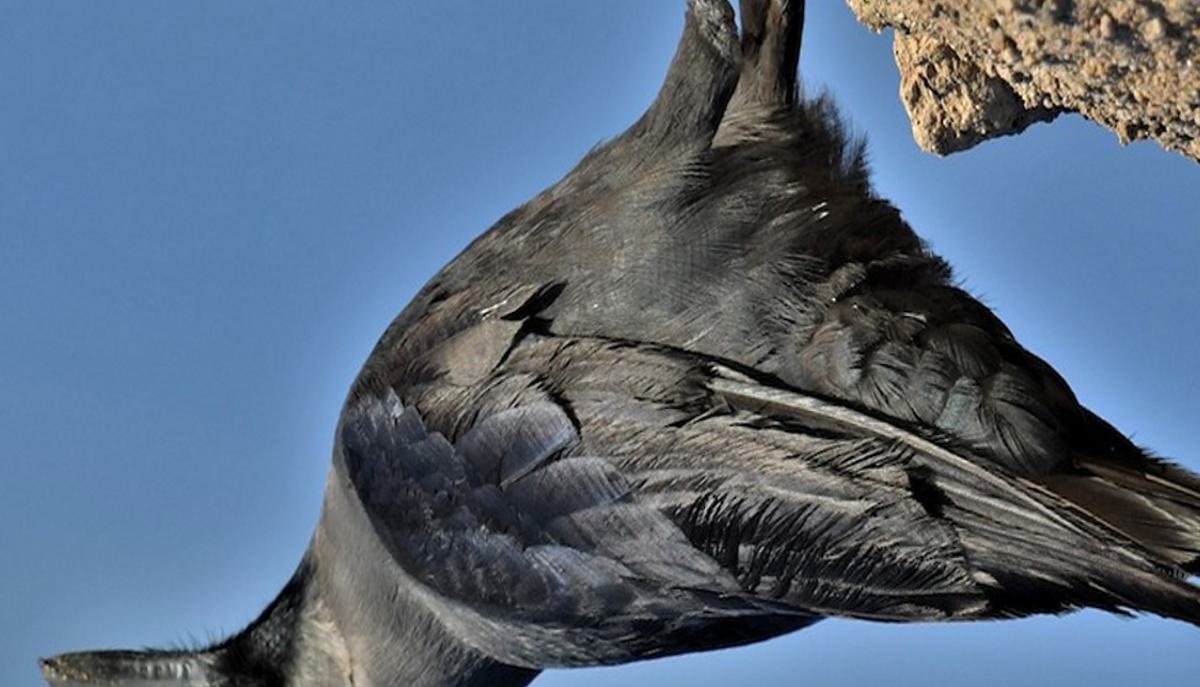crow: (28, 48, 1153, 678)
